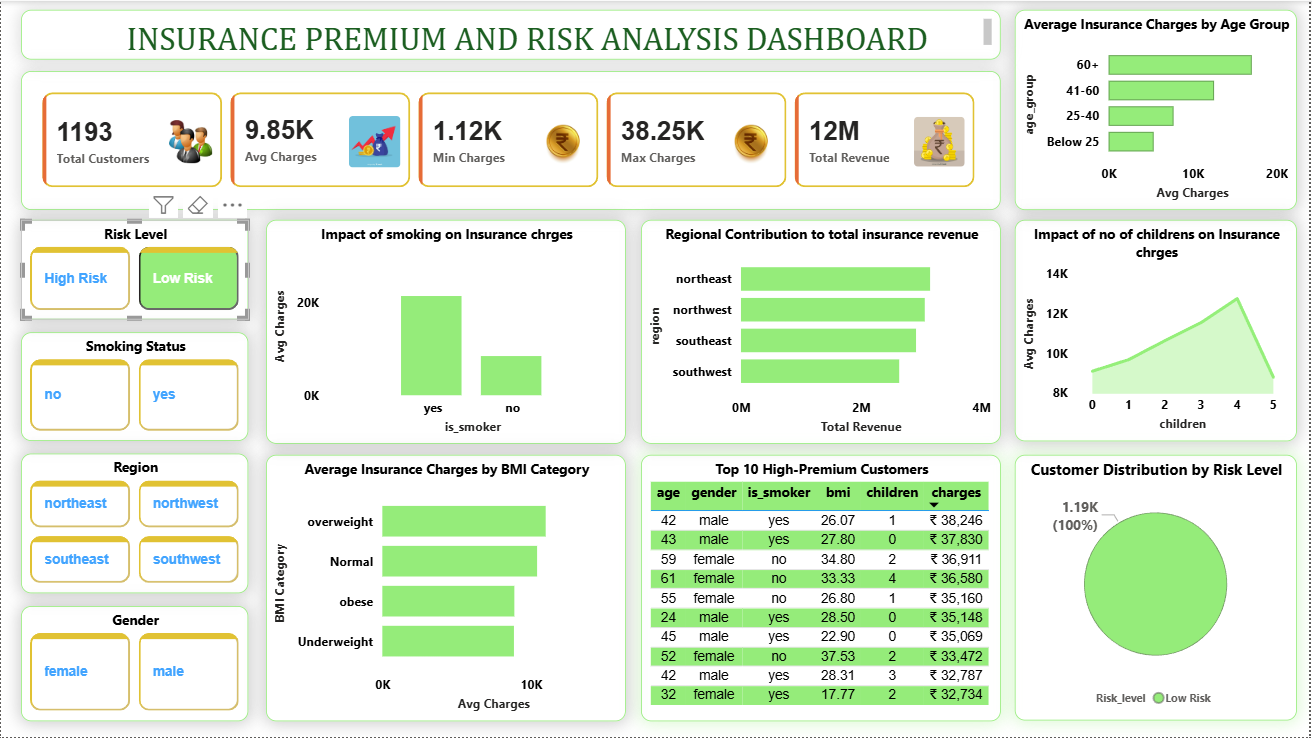

Layout of this report page (visuals, bound fields, positions):
{"tool":"powerbi","page":{"name":"Page 1","canvas":[1280,720],"ordinal":0},"visuals":[{"type":"cardVisual","fields":{"Data":["insurance_analysis_cleaned.Total Customers","insurance_analysis_cleaned.Avg Charges","insurance_analysis_cleaned.Min Charges","insurance_analysis_cleaned.Max Charges","insurance_analysis_cleaned.Total Revenue"]},"box":[19.6,68.5,958.7,135.7],"z":0},{"type":"advancedSlicerVisual","title":"Region","fields":{"Values":["insurance_analysis_cleaned.region"]},"box":[19.6,442.7,222.6,137],"z":1000},{"type":"advancedSlicerVisual","title":"Smoking Status","fields":{"Values":["insurance_analysis_cleaned.is_smoker"]},"box":[19.6,324.1,222.6,106.4],"z":2000},{"type":"advancedSlicerVisual","title":"Risk Level","fields":{"Values":["insurance_analysis_cleaned.risk_level"]},"box":[19.6,214,222.6,97.8],"z":3000},{"type":"advancedSlicerVisual","title":"Gender","fields":{"Values":["insurance_analysis_cleaned.gender"]},"box":[19.6,591.9,222.6,112.5],"z":4000},{"type":"columnChart","title":"Impact of smoking on Insurance chrges","fields":{"Category":["insurance_analysis_cleaned.is_smoker"],"Y":["insurance_analysis_cleaned.Avg Charges"]},"box":[259.2,214,352.2,218.9],"z":5000},{"type":"barChart","title":"Regional Contribution to total insurance revenue","fields":{"Category":["insurance_analysis_cleaned.region"],"Y":["insurance_analysis_cleaned.Total Revenue"]},"box":[626.1,214,352.2,218.9],"z":6000},{"type":"areaChart","title":"Impact of no of childrens on Insurance chrges","fields":{"Y":["insurance_analysis_cleaned.Avg Charges"],"Category":["insurance_analysis_cleaned.children"]},"box":[991.7,214,276.4,216.4],"z":7000},{"type":"tableEx","title":"Top 10 High-Premium Customers","fields":{"Values":["insurance_analysis_cleaned.age","insurance_analysis_cleaned.gender","insurance_analysis_cleaned.is_smoker","insurance_analysis_cleaned.bmi","insurance_analysis_cleaned.children","insurance_analysis_cleaned.charges"]},"box":[626.1,443.9,352.2,260.5],"z":8000},{"type":"barChart","title":"Average Insurance Charges by BMI Category","fields":{"Y":["insurance_analysis_cleaned.Avg Charges"],"Category":["insurance_analysis_cleaned.bmi_category"]},"box":[259.2,443.9,352.2,260.5],"z":9000},{"type":"pieChart","title":"Customer Distribution by Risk Level","fields":{"Category":["insurance_analysis_cleaned.risk_level"],"Y":["CountNonNull(insurance_analysis_cleaned.customerid)"]},"box":[992,444,276,260],"z":10000},{"type":"barChart","title":"Average Insurance Charges by Age Group","fields":{"Y":["insurance_analysis_cleaned.Avg Charges"],"Category":["insurance_analysis_cleaned.age_group"]},"box":[991.7,8.6,276.4,195.7],"z":11000},{"type":"textbox","box":[19.6,8.6,958.7,48.9],"z":12000}]}

Visuals, with their boxes in screenshot pixels (x1, y1, x2, y2), scaled from the page's 1280x720 canvas onto the 1312x738 screenshot:
cardVisual - insurance_analysis_cleaned.Total Customers x insurance_analysis_cleaned.Avg Charges: [20,70,1003,209]
"Region" advancedSlicerVisual: [20,454,248,594]
"Smoking Status" advancedSlicerVisual: [20,332,248,441]
"Risk Level" advancedSlicerVisual: [20,219,248,320]
"Gender" advancedSlicerVisual: [20,607,248,722]
"Impact of smoking on Insurance chrges" columnChart: [266,219,627,444]
"Regional Contribution to total insurance revenue" barChart: [642,219,1003,444]
"Impact of no of childrens on Insurance chrges" areaChart: [1016,219,1300,441]
"Top 10 High-Premium Customers" tableEx: [642,455,1003,722]
"Average Insurance Charges by BMI Category" barChart: [266,455,627,722]
"Customer Distribution by Risk Level" pieChart: [1017,455,1300,722]
"Average Insurance Charges by Age Group" barChart: [1016,9,1300,209]
textbox: [20,9,1003,59]
